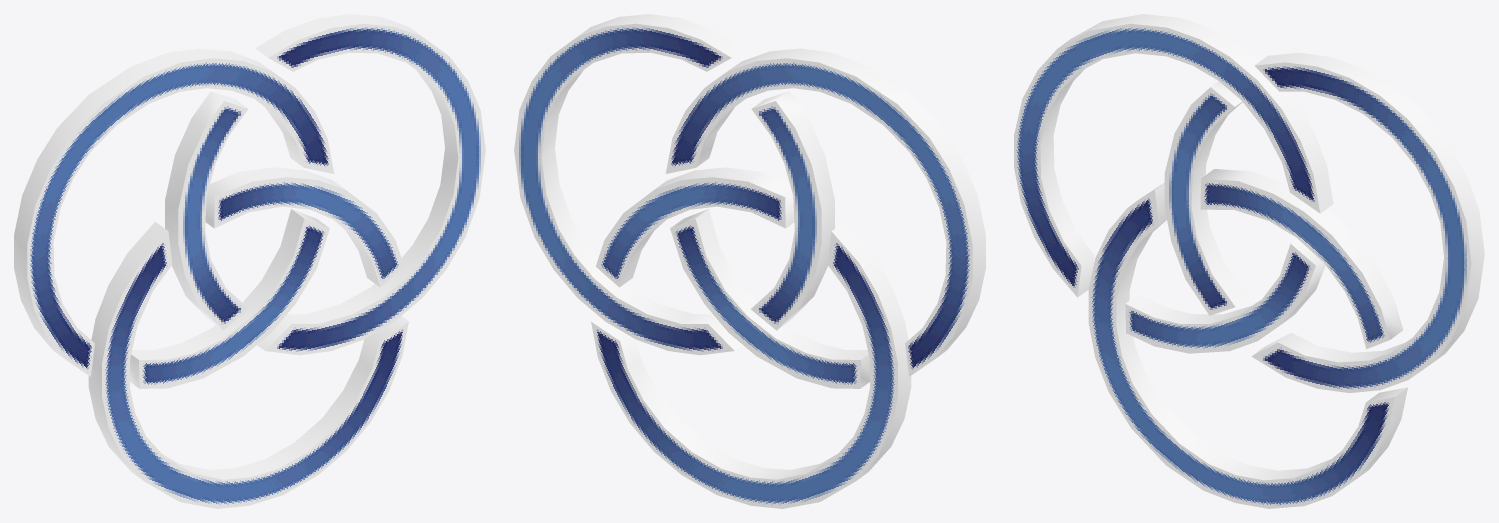
Rendered from ps2_save-icons_remember11-originalrelease.glb.
3 views of the same model, side by side, from view 1: azimuth 30°, elevation 25°; view 2: azimuth 150°, elevation 25°; view 3: azimuth 330°, elevation 25° (orthographic).
Parts seen in each view (by area): view 1: icon.ico; view 2: icon.ico; view 3: icon.ico.
Boxes of the visible parts, bbox=[...] form: icon.ico: bbox=[14, 14, 485, 508]; icon.ico: bbox=[514, 14, 985, 508]; icon.ico: bbox=[1014, 14, 1484, 508].
Bounding box in the file's own units: 4.77 × 4.57 × 0.24.
1 material, 1 textured.
